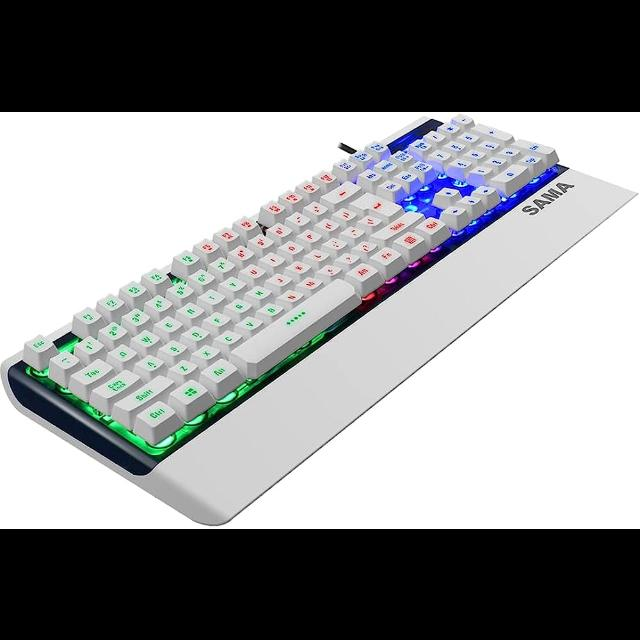Computer-Keyboard: (0, 112, 638, 524)
